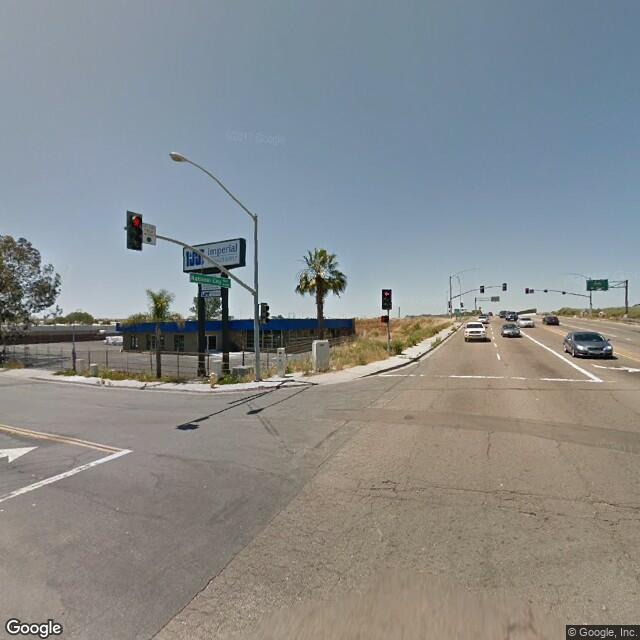litter: (97, 381, 110, 386)
